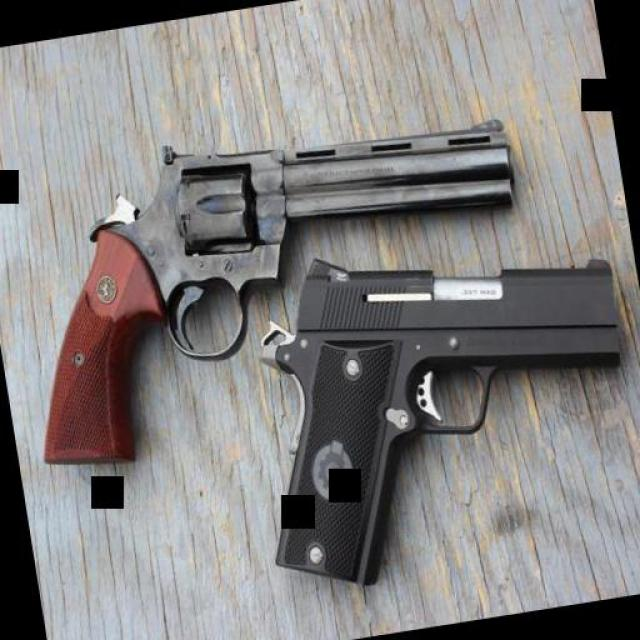gun: (0, 88, 555, 472), (212, 210, 640, 586)
